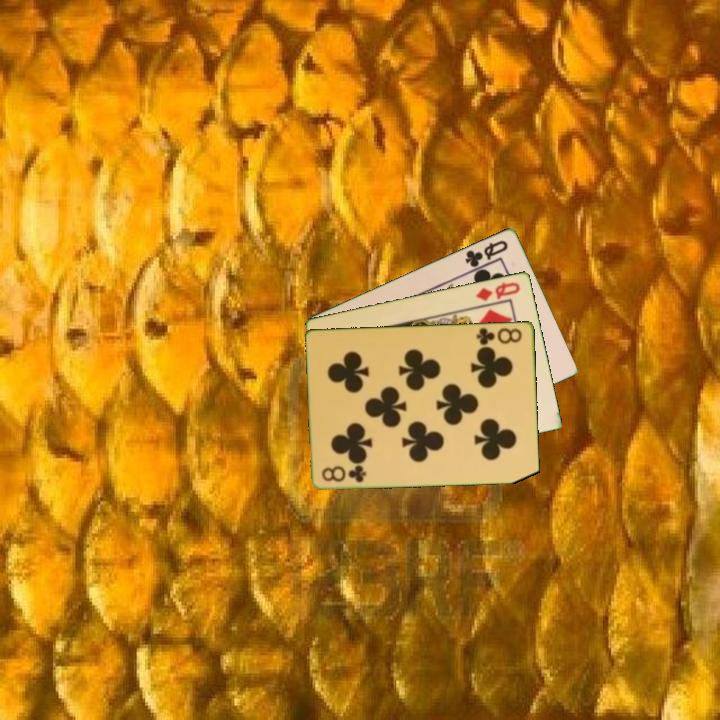8c: (473, 324, 525, 348), (319, 462, 370, 485)
Qc: (462, 236, 511, 270)
Qd: (473, 278, 524, 304)
